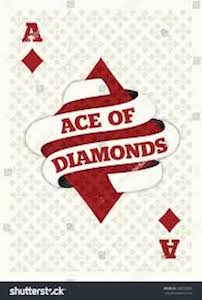AceOfDiamonds: (4, 2, 197, 276)
